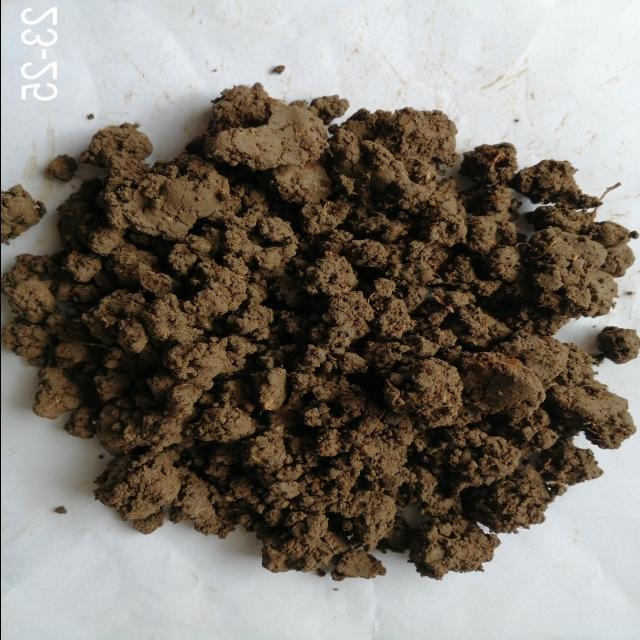soil: (118, 197, 550, 508)
